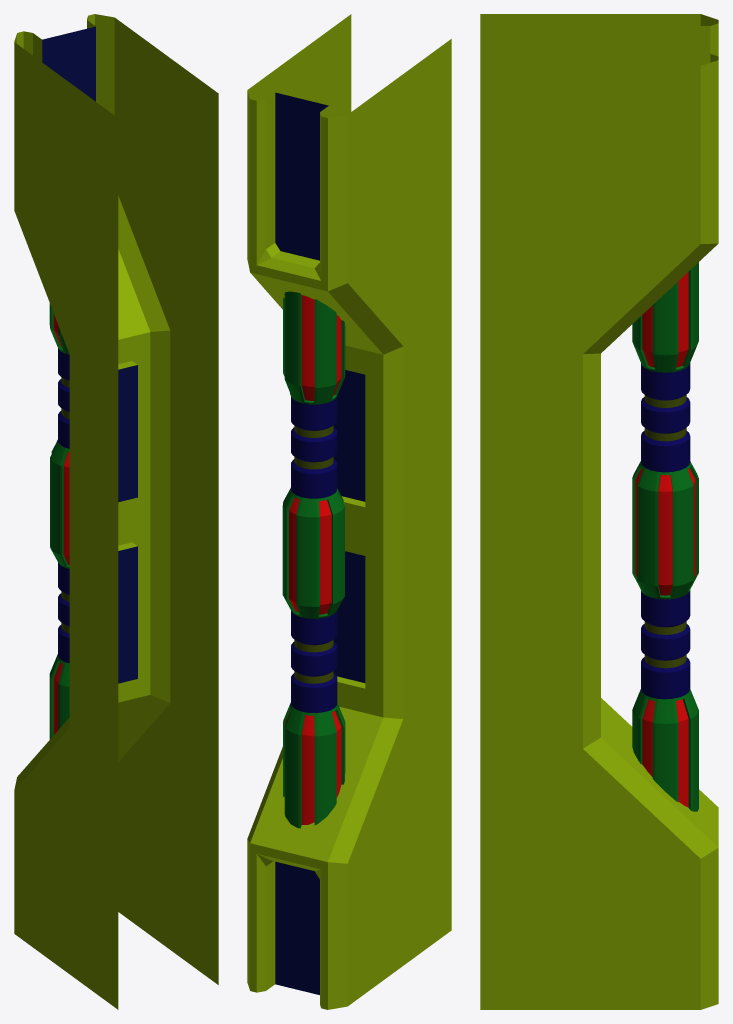
The model's file is OBJ_SF_Pilier.fbx.
The picture shows the model from 3 angles, left to right: view 1: azimuth 30°, elevation 25°; view 2: azimuth 150°, elevation 25°; view 3: azimuth 270°, elevation 25°; orthographic projection. The views are drawn at different scales.
Parts seen in each view (by area): view 1: OBJ_SF_Pilier; view 2: OBJ_SF_Pilier; view 3: OBJ_SF_Pilier.
Boxes of the visible parts, x1,y1,x2,y2 form: OBJ_SF_Pilier: (14,14,218,1009); OBJ_SF_Pilier: (247,14,451,1009); OBJ_SF_Pilier: (480,14,718,1009).
Size of the model in its own units: 0.8843 by 7.5 by 1.72.
